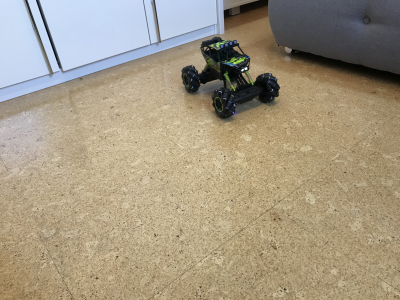remote control car: (179, 34, 283, 119)
